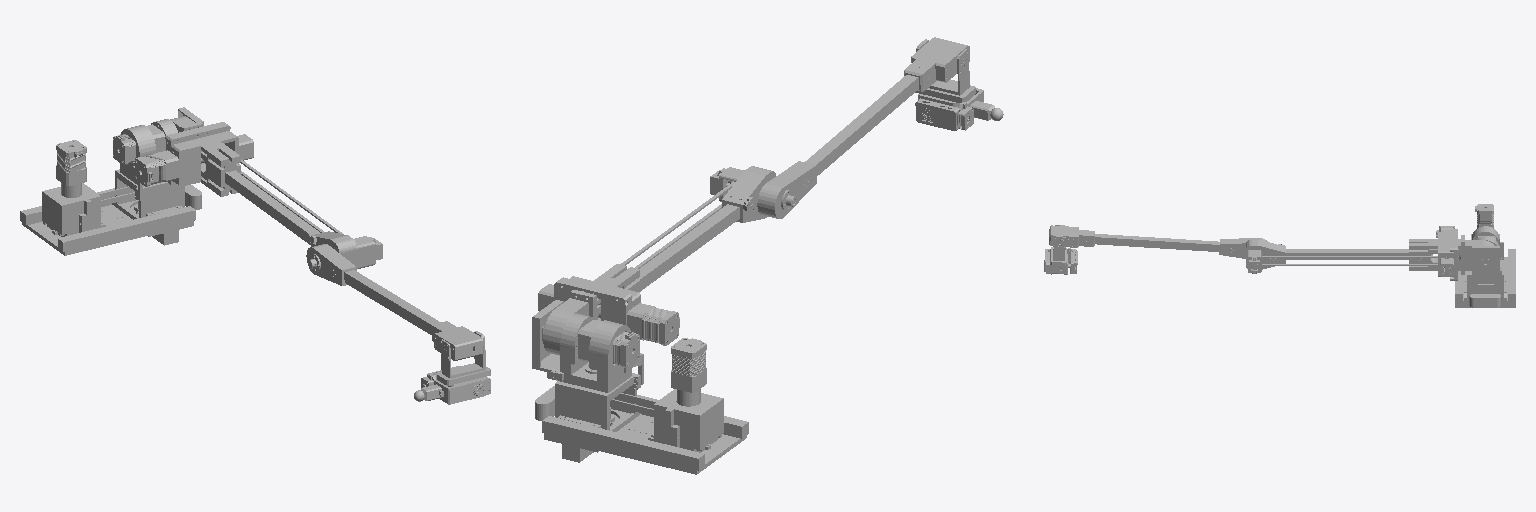
robot.urdf — whitepost_description:
<?xml version="1.0" encoding="utf-8"?>
<!-- This URDF was automatically created by SolidWorks to URDF Exporter! Originally created by Stephen Brawner (brawner@gmail.com) 
     Commit Version: 1.6.0-4-g7f85cfe  Build Version: 1.6.7995.38578
     For more information, please see http://wiki.ros.org/sw_urdf_exporter -->
<robot
  name="whitepost_description">
  <link
    name="base_link">
    <inertial>
      <origin
        xyz="-0.0878871849556058 -0.24031436576645 -0.00262201895905863"
        rpy="0 0 0" />
      <mass
        value="1.44247098515789" />
      <inertia
        ixx="0.00190082650789974"
        ixy="-6.54115106336875E-08"
        ixz="0.000158122643415958"
        iyy="0.00430567343735884"
        iyz="2.13686604503896E-07"
        izz="0.00562547913875254" />
    </inertial>
    <visual>
      <origin
        xyz="0 0 0"
        rpy="0 0 0" />
      <geometry>
        <mesh
          filename="package://whitepost_description/meshes/base_link.STL" />
      </geometry>
      <material
        name="">
        <color
          rgba="0.752941176470588 0.752941176470588 0.752941176470588 1" />
      </material>
    </visual>
    <collision>
      <origin
        xyz="0 0 0"
        rpy="0 0 0" />
      <geometry>
        <mesh
          filename="package://whitepost_description/meshes/base_link.STL" />
      </geometry>
    </collision>
  </link>
  <link
    name="link1">
    <inertial>
      <origin
        xyz="0.00484822061340437 -0.000304970456229264 0.0270397107750235"
        rpy="0 0 0" />
      <mass
        value="0.620101924539931" />
      <inertia
        ixx="0.000629808311211551"
        ixy="-3.97484032471268E-07"
        ixz="-6.73553682915433E-06"
        iyy="0.000749454499612437"
        iyz="-3.05630027277703E-07"
        izz="0.000566325959412686" />
    </inertial>
    <visual>
      <origin
        xyz="0 0 0"
        rpy="0 0 0" />
      <geometry>
        <mesh
          filename="package://whitepost_description/meshes/link1.STL" />
      </geometry>
      <material
        name="">
        <color
          rgba="0.752941176470588 0.752941176470588 0.752941176470588 1" />
      </material>
    </visual>
    <collision>
      <origin
        xyz="0 0 0"
        rpy="0 0 0" />
      <geometry>
        <mesh
          filename="package://whitepost_description/meshes/link1.STL" />
      </geometry>
    </collision>
  </link>
  <joint
    name="joint1"
    type="revolute">
    <origin
      xyz="-0.0159462258519159 -0.240246042857508 0.0583181110479435"
      rpy="0 0 0" />
    <parent
      link="base_link" />
    <child
      link="link1" />
    <axis
      xyz="0 0 1" />
    <limit
      lower="0"
      upper="4.7124"
      effort="0"
      velocity="0" />
  </joint>
  <link
    name="link2">
    <inertial>
      <origin
        xyz="-0.202032273233566 -7.88730675378713E-06 0.0249467072303828"
        rpy="0 0 0" />
      <mass
        value="1.41800319923908" />
      <inertia
        ixx="0.000989886540311289"
        ixy="3.32247329437961E-08"
        ixz="1.61925579310198E-05"
        iyy="0.00307607710917419"
        iyz="7.07490230653188E-09"
        izz="0.00328805724019953" />
    </inertial>
    <visual>
      <origin
        xyz="0 0 0"
        rpy="0 0 0" />
      <geometry>
        <mesh
          filename="package://whitepost_description/meshes/link2.STL" />
      </geometry>
      <material
        name="">
        <color
          rgba="0.752941176470588 0.752941176470588 0.752941176470588 1" />
      </material>
    </visual>
    <collision>
      <origin
        xyz="0 0 0"
        rpy="0 0 0" />
      <geometry>
        <mesh
          filename="package://whitepost_description/meshes/link2.STL" />
      </geometry>
    </collision>
  </link>
  <joint
    name="joint2"
    type="revolute">
    <origin
      xyz="0.0734962258519162 -0.00550395714249205 0.0449999999999996"
      rpy="-1.5707963267949 0 1.5707963267949" />
    <parent
      link="link1" />
    <child
      link="link2" />
    <axis
      xyz="0 0 1" />
    <limit
      lower="0"
      upper="3.1416"
      effort="0"
      velocity="0" />
  </joint>
  <link
    name="link3">
    <inertial>
      <origin
        xyz="0.242960164877792 0.00012337188422766 -0.0147772951400764"
        rpy="0 0 0" />
      <mass
        value="0.403417641072483" />
      <inertia
        ixx="9.56456633191661E-05"
        ixy="2.78560622329879E-09"
        ixz="5.96872643894562E-06"
        iyy="0.00155136464997689"
        iyz="1.32956952847832E-08"
        izz="0.00154677260648561" />
    </inertial>
    <visual>
      <origin
        xyz="0 0 0"
        rpy="0 0 0" />
      <geometry>
        <mesh
          filename="package://whitepost_description/meshes/link3.STL" />
      </geometry>
      <material
        name="">
        <color
          rgba="0.752941176470588 0.752941176470588 0.752941176470588 1" />
      </material>
    </visual>
    <collision>
      <origin
        xyz="0 0 0"
        rpy="0 0 0" />
      <geometry>
        <mesh
          filename="package://whitepost_description/meshes/link3.STL" />
      </geometry>
    </collision>
  </link>
  <joint
    name="joint3"
    type="revolute">
    <origin
      xyz="-0.568892521556106 5.00000000043382E-05 0.0689962258519109"
      rpy="0 0 0" />
    <parent
      link="link2" />
    <child
      link="link3" />
    <axis
      xyz="0 0 1" />
    <limit
      lower="0.13963"
      upper="6.2832"
      effort="0"
      velocity="0" />
  </joint>
  <link
    name="link4">
    <inertial>
      <origin
        xyz="0.00202084562805582 -0.0593866706994491 -0.032860760958691"
        rpy="0 0 0" />
      <mass
        value="0.183902372152348" />
      <inertia
        ixx="0.000130007338632221"
        ixy="-1.89655484055181E-08"
        ixz="-1.37057325298404E-07"
        iyy="0.000125916800836315"
        iyz="2.32931330679035E-06"
        izz="5.92844110982551E-05" />
    </inertial>
    <visual>
      <origin
        xyz="0 0 0"
        rpy="0 0 0" />
      <geometry>
        <mesh
          filename="package://whitepost_description/meshes/link4.STL" />
      </geometry>
      <material
        name="">
        <color
          rgba="0.752941176470588 0.752941176470588 0.752941176470588 1" />
      </material>
    </visual>
    <collision>
      <origin
        xyz="0 0 0"
        rpy="0 0 0" />
      <geometry>
        <mesh
          filename="package://whitepost_description/meshes/link4.STL" />
      </geometry>
    </collision>
  </link>
  <joint
    name="joint4"
    type="revolute">
    <origin
      xyz="0.4895 0.0002 0.0167"
      rpy="0 0 0" />
    <parent
      link="link3" />
    <child
      link="link4" />
    <axis
      xyz="0 0 1" />
    <limit
      lower="0"
      upper="3.1416"
      effort="0"
      velocity="0" />
  </joint>
  <link
    name="link5">
    <inertial>
      <origin
        xyz="-0.0446032766046531 -0.000162708163776337 0.0244626761334014"
        rpy="0 0 0" />
      <mass
        value="0.0824040607022898" />
      <inertia
        ixx="4.34716313620653E-05"
        ixy="-1.10140855123914E-09"
        ixz="2.10979217176686E-06"
        iyy="6.84180432466642E-05"
        iyz="-3.77593897613679E-09"
        izz="3.64032876394254E-05" />
    </inertial>
    <visual>
      <origin
        xyz="0 0 0"
        rpy="0 0 0" />
      <geometry>
        <mesh
          filename="package://whitepost_description/meshes/link5.STL" />
      </geometry>
      <material
        name="">
        <color
          rgba="0.752941176470588 0.752941176470588 0.752941176470588 1" />
      </material>
    </visual>
    <collision>
      <origin
        xyz="0 0 0"
        rpy="0 0 0" />
      <geometry>
        <mesh
          filename="package://whitepost_description/meshes/link5.STL" />
      </geometry>
    </collision>
  </link>
  <joint
    name="joint5"
    type="revolute">
    <origin
      xyz="-0.0295999999999965 -0.0748000000000026 -0.0408000000000002"
      rpy="0 -1.5707963267949 3.14159265358979" />
    <parent
      link="link4" />
    <child
      link="link5" />
    <axis
      xyz="0 0 1" />
    <limit
      lower="0"
      upper="3.1416"
      effort="0"
      velocity="0" />
  </joint>
</robot>

--- What the picture shows (computed from the rendered views, not written in the file) ---
The picture shows the robot from 3 angles, left to right: view 1: azimuth 30°, elevation 25°; view 2: azimuth 150°, elevation 25°; view 3: azimuth 270°, elevation 25°; orthographic projection.
Robot: whitepost_description — 6 links, 5 joints (5 revolute); root link base_link; default pose: all joints at 0 but 1 set to mid-range because 0 is outside their limits (joint3 = 3.21).
Visible links, largest first — view 1: base_link, link2, link3, link1, link4, link5; view 2: base_link, link2, link3, link1, link5, link4; view 3: link2, base_link, link3, link1, link4.
Boxes of the visible links, x1=… form: base_link: x1=20, y1=140, x2=201, y2=255; link2: x1=135, y1=116, x2=382, y2=268; link3: x1=306, y1=244, x2=483, y2=360; link1: x1=113, y1=107, x2=203, y2=200; link4: x1=437, y1=331, x2=490, y2=394; link5: x1=414, y1=366, x2=485, y2=404; base_link: x1=535, y1=338, x2=748, y2=474; link2: x1=538, y1=166, x2=795, y2=355; link3: x1=757, y1=37, x2=969, y2=218; link1: x1=532, y1=300, x2=643, y2=392; link5: x1=915, y1=88, x2=1003, y2=130; link4: x1=915, y1=39, x2=975, y2=107; link2: x1=1246, y1=226, x2=1494, y2=280; base_link: x1=1455, y1=204, x2=1515, y2=307; link3: x1=1049, y1=225, x2=1267, y2=258; link1: x1=1472, y1=226, x2=1501, y2=278; link4: x1=1046, y1=225, x2=1070, y2=274.
Bounding box of the posed robot: 0.3685 × 1.18 × 0.2149 m (x, y, z).
6 mesh visuals loaded from 6 distinct referenced files (6 binary STL).
